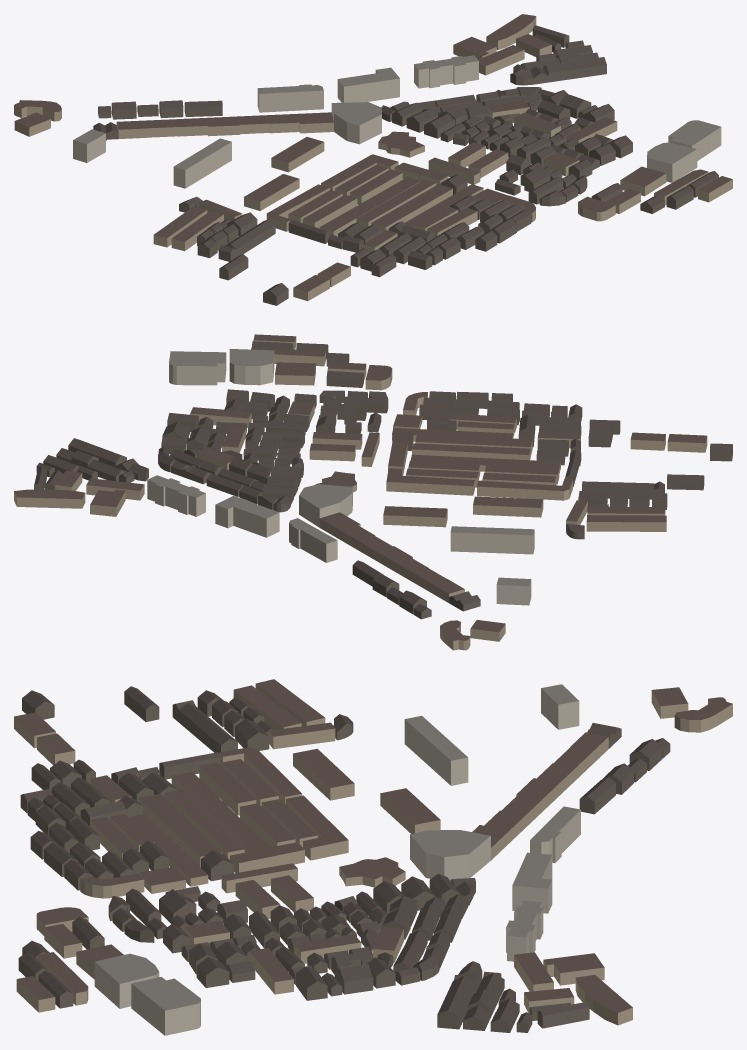
Rendered from tile_2_10.glb.
The picture shows the model from 3 angles, top to bottom: view 1: azimuth 30°, elevation 25°; view 2: azimuth 150°, elevation 25°; view 3: azimuth 270°, elevation 25°; orthographic projection. The views are drawn at different scales.
Parts seen in each view (by area): view 1: HP-w373833619, HP-w859082574, HP-w859082575, HP-w859082573, HP-w475045202, HP-w373833568, HP-w373833551, HP-w859086208, HP-w859086210, HP-w475045201, HP-w414733194, HP-w859086209 (+44 smaller); view 2: HP-w475045202, HP-w373833551, HP-w859082574, HP-w373833619, HP-w859082575, HP-w859086176, HP-w373833568, HP-w859086177, HP-w859086209, HP-w859082573, HP-w859088533, HP-w475045201 (+30 smaller); view 3: HP-w373833619, HP-w373833551, HP-w475045202, HP-w373833568, HP-w859086208, HP-w859086210, HP-w859086176, HP-w859082574, HP-w475045201, HP-w859082573, HP-w859082575, HP-w859082581 (+71 smaller).
Part boxes in pixels (<box>): HP-w373833619: <box>331,102,381,144</box>; HP-w859082574: <box>337,67,399,102</box>; HP-w859082575: <box>414,55,478,88</box>; HP-w859082573: <box>257,84,323,112</box>; HP-w475045202: <box>173,138,231,188</box>; HP-w373833568: <box>647,142,697,182</box>; HP-w373833551: <box>668,120,721,160</box>; HP-w859086208: <box>371,184,452,232</box>; HP-w859086210: <box>319,177,420,235</box>; HP-w475045201: <box>244,174,299,210</box>; HP-w414733194: <box>271,137,324,172</box>; HP-w859086209: <box>356,179,436,227</box>; HP-w475045202: <box>450,526,534,554</box>; HP-w373833551: <box>169,351,226,385</box>; HP-w859082574: <box>215,496,279,537</box>; HP-w373833619: <box>299,484,352,527</box>; HP-w859082575: <box>147,475,205,516</box>; HP-w859086176: <box>386,468,474,495</box>; HP-w373833568: <box>229,349,274,385</box>; HP-w859086177: <box>477,478,572,500</box>; HP-w859086209: <box>412,443,530,460</box>; HP-w859082573: <box>289,518,337,562</box>; HP-w859088533: <box>586,515,666,531</box>; HP-w475045201: <box>473,496,543,517</box>; HP-w373833619: <box>410,830,490,880</box>; HP-w373833551: <box>131,977,200,1035</box>; HP-w475045202: <box>404,715,468,785</box>; HP-w373833568: <box>94,953,159,1008</box>; HP-w859086208: <box>139,793,222,867</box>; HP-w859086210: <box>171,772,269,852</box>; HP-w859086176: <box>285,795,348,860</box>; HP-w859082574: <box>512,852,552,913</box>; HP-w475045201: <box>293,748,354,800</box>; HP-w859082573: <box>530,806,580,862</box>; HP-w859082575: <box>506,900,543,961</box>; HP-w859082581: <box>575,975,632,1025</box>.
Bounding box in the file's own units: 530 × 18 × 468.
